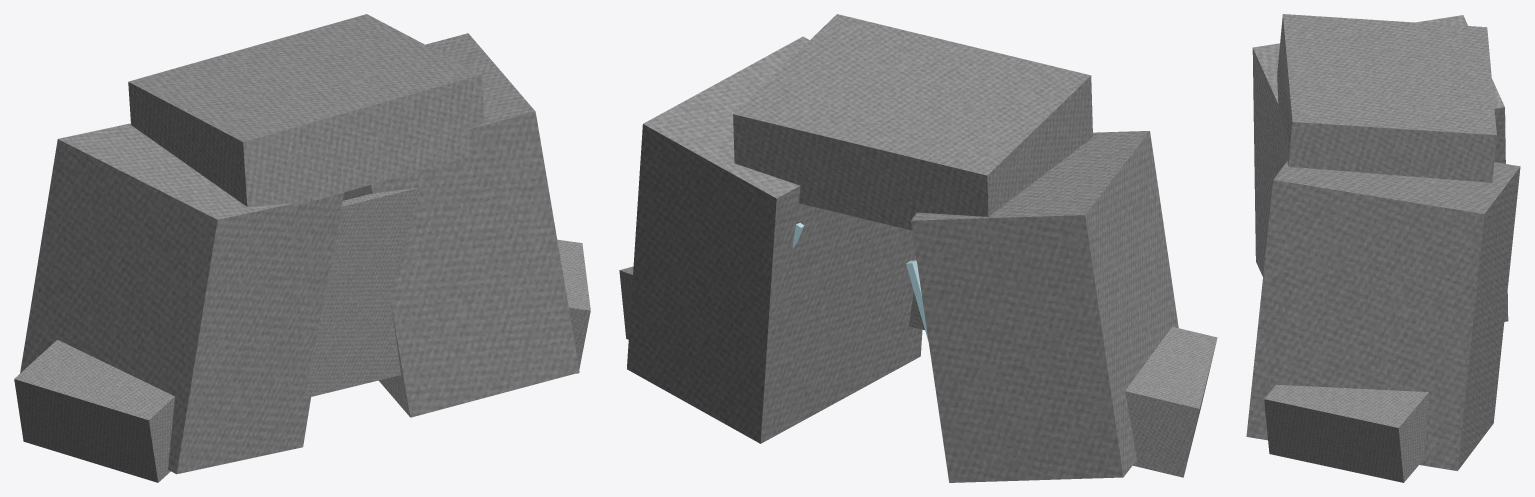
The model's file is deep-fracture-entrance.glb.
3 renders of one model, left to right at view 1: azimuth 30°, elevation 25°; view 2: azimuth 150°, elevation 25°; view 3: azimuth 270°, elevation 25°, orthographic. The views are drawn at different scales.
Parts seen in each view (by area): view 1: Fracture_LeftMass, Fracture_Overhang, Fracture_RightMass, Fracture_LeftTalus, Fracture_MouthShadow, Fracture_RightTalus; view 2: Fracture_RightMass, Fracture_LeftMass, Fracture_Overhang, Fracture_LeftTalus, Fracture_RightTalus; view 3: Fracture_RightMass, Fracture_Overhang, Fracture_RightTalus, Fracture_LeftMass.
Part boxes in pixels (x1,y1,x2,y2): Fracture_LeftMass: (20, 123, 343, 474); Fracture_Overhang: (128, 14, 484, 206); Fracture_RightMass: (342, 33, 579, 417); Fracture_LeftTalus: (14, 340, 174, 482); Fracture_MouthShadow: (304, 187, 420, 398); Fracture_RightTalus: (557, 239, 590, 373); Fracture_RightMass: (627, 36, 922, 443); Fracture_LeftMass: (911, 131, 1178, 482); Fracture_Overhang: (733, 14, 1092, 230); Fracture_LeftTalus: (1125, 326, 1217, 477); Fracture_RightTalus: (619, 266, 633, 339); Fracture_RightMass: (1246, 161, 1520, 470); Fracture_Overhang: (1277, 14, 1496, 182); Fracture_RightTalus: (1264, 384, 1428, 482); Fracture_LeftMass: (1252, 15, 1508, 321).
Size of the model in its own units: 10.25 by 5.78 by 4.54.
3 materials, 3 textured.
